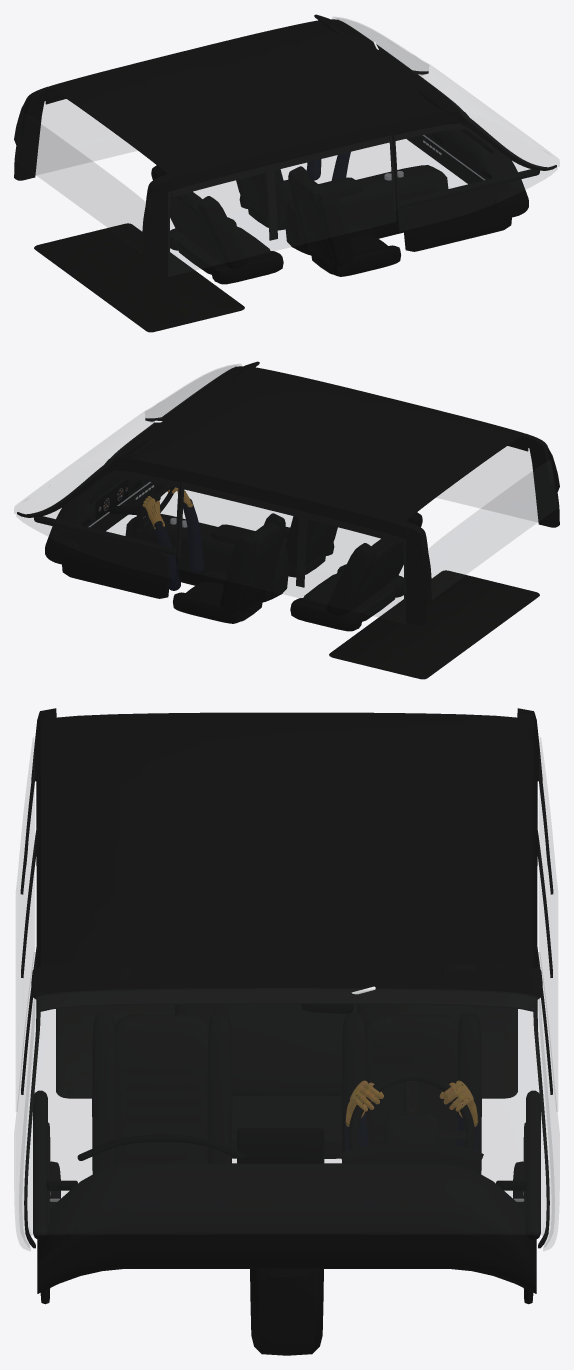
Rendered from rb_ridgeback_cockpit.glb.
The picture shows the model from 3 angles, top to bottom: view 1: azimuth 30°, elevation 25°; view 2: azimuth 150°, elevation 25°; view 3: azimuth 270°, elevation 25°; orthographic projection. The views are drawn at different scales.
Visible parts, largest first — view 1: cockpit_shell, cabin_glass, window_R, hands; view 2: cockpit_shell, cabin_glass, window_L, hands, steering_wheel; view 3: cockpit_shell, cabin_glass, steering_wheel, hands, window_L, window_R.
Part boxes in pixels (<box>): cockpit_shell: <box>14,14,556,332</box>; cabin_glass: <box>16,17,559,276</box>; window_R: <box>394,124,557,231</box>; hands: <box>306,152,350,180</box>; cockpit_shell: <box>17,361,559,679</box>; cabin_glass: <box>14,364,557,623</box>; window_L: <box>16,471,179,578</box>; hands: <box>142,487,204,590</box>; steering_wheel: <box>131,485,174,534</box>; cockpit_shell: <box>20,708,553,1355</box>; cabin_glass: <box>16,738,557,1246</box>; steering_wheel: <box>348,1072,475,1149</box>; hands: <box>344,1080,478,1170</box>; window_L: <box>539,952,559,1250</box>; window_R: <box>14,952,34,1250</box>.
Size of the model in its own units: 3.03 by 1.2 by 1.75.
Materials: 4 (2 with a texture image).
